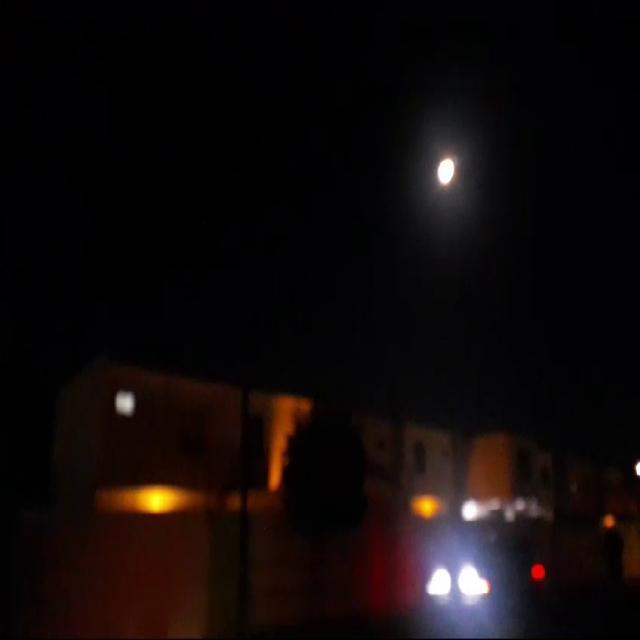moon: (439, 156, 459, 190)
